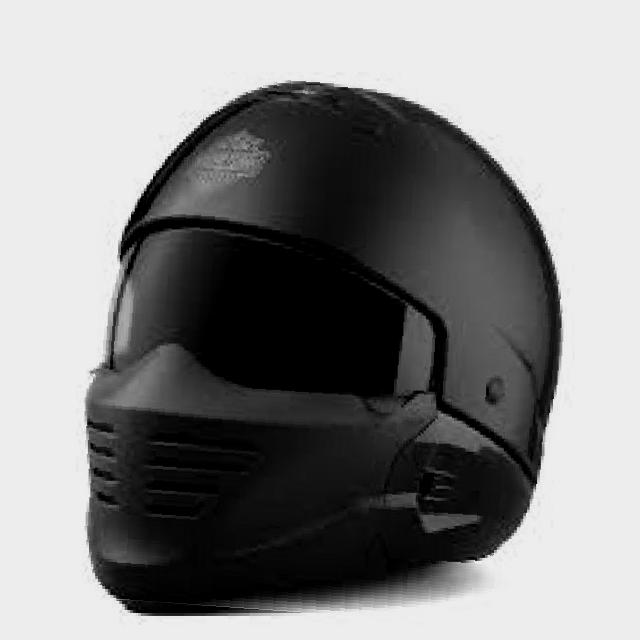helmet: (79, 74, 571, 622)
